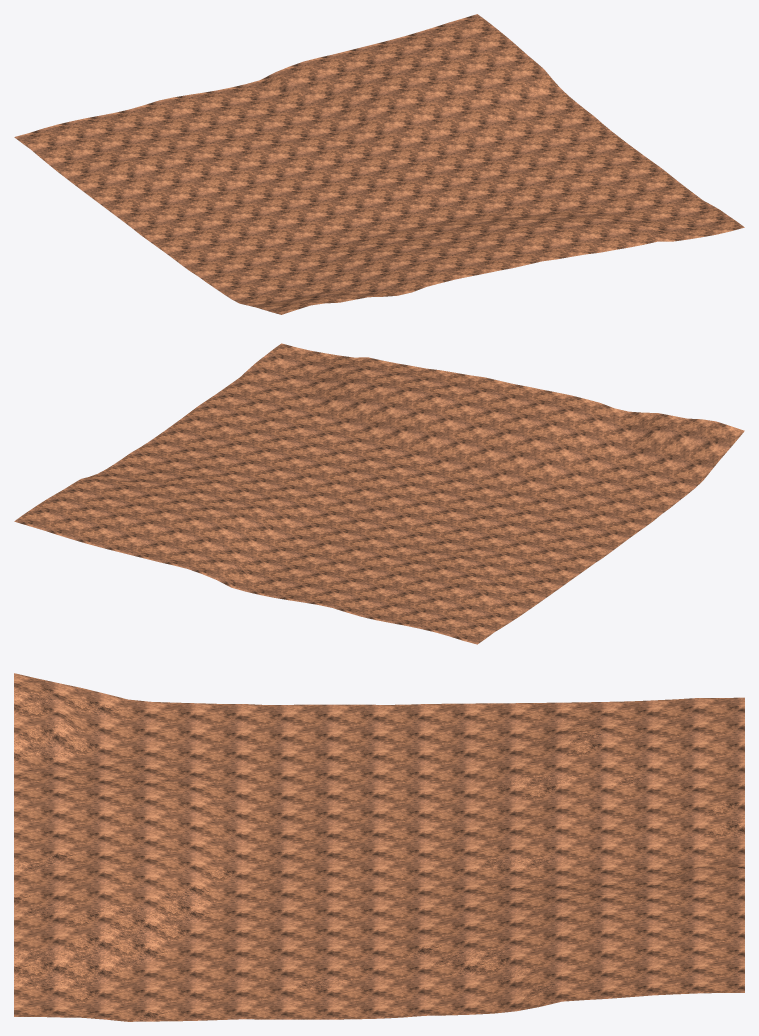
Rendered from terrain_03_14.dae.
3 views of the same model, one above another, from view 1: azimuth 30°, elevation 25°; view 2: azimuth 150°, elevation 25°; view 3: azimuth 270°, elevation 25° (orthographic). The views are drawn at different scales.
Parts seen in each view (by area): view 1: terrain_03_14-node; view 2: terrain_03_14-node; view 3: terrain_03_14-node.
Boxes of the visible parts, box(x1,y1,x2,y2) form: terrain_03_14-node: box(14, 14, 744, 314); terrain_03_14-node: box(14, 343, 744, 644); terrain_03_14-node: box(14, 673, 744, 1021).
Bounding box in the file's own units: 128 × 128 × 8.32.
Materials: 1 (1 with a texture image).
